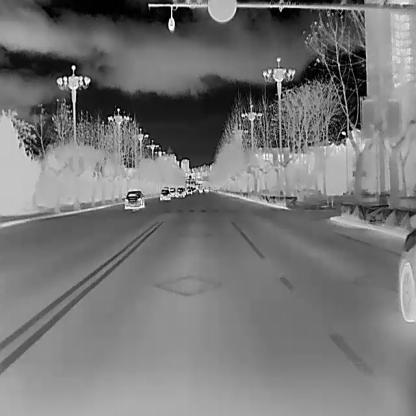car: (124, 190, 144, 208), (159, 187, 170, 200), (176, 187, 185, 197), (168, 186, 176, 197), (186, 189, 193, 194)
